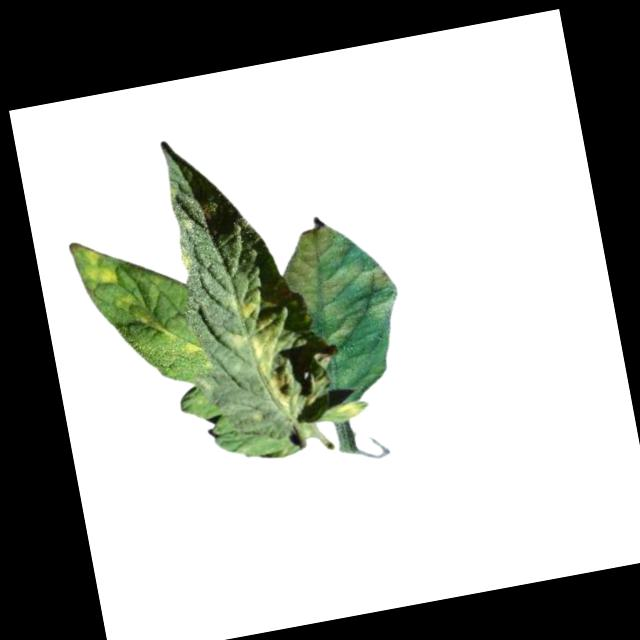Leaf_Mold: (275, 212, 401, 344), (220, 278, 308, 421), (79, 245, 119, 288)
